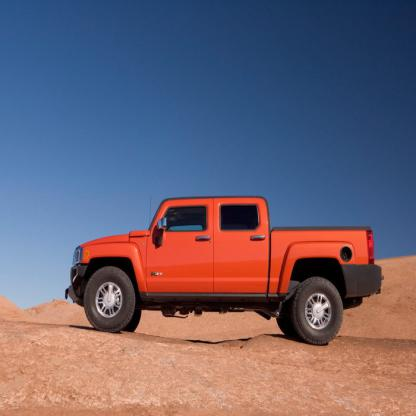Vehicle: (66, 195, 384, 344)
